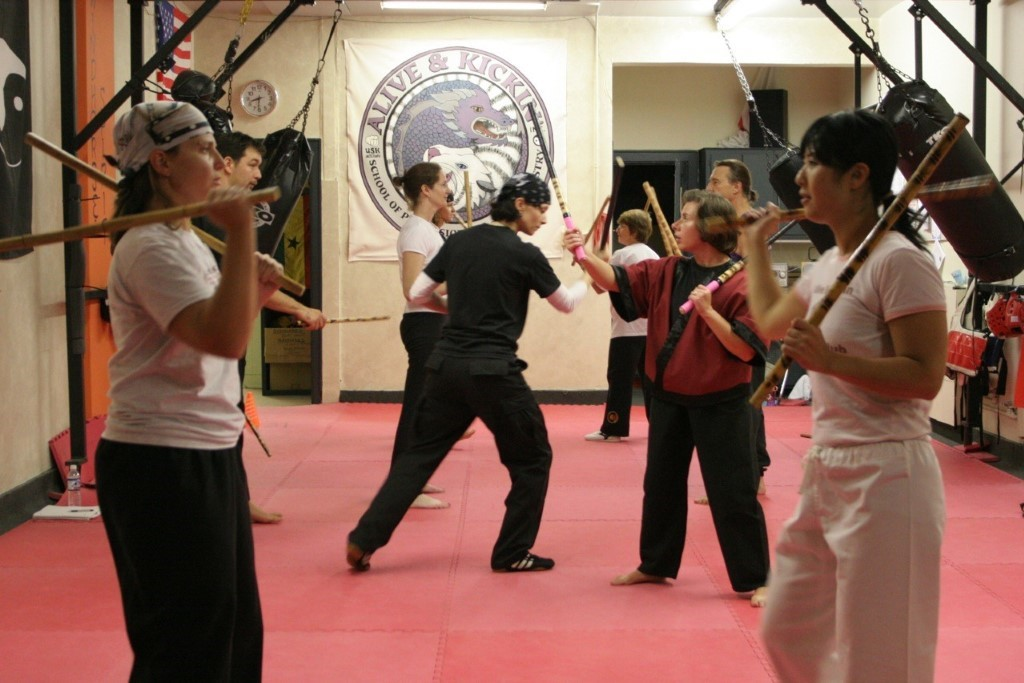baston_e: (753, 128, 958, 394), (37, 134, 289, 291), (710, 172, 983, 235), (2, 195, 262, 258), (687, 215, 795, 313), (526, 109, 585, 248), (642, 186, 682, 251), (569, 198, 605, 266), (602, 166, 626, 245), (242, 416, 270, 453), (302, 316, 383, 326), (462, 174, 474, 225), (454, 215, 465, 228)
baston_v: (261, 181, 288, 206), (982, 172, 1002, 201), (953, 104, 976, 128), (744, 391, 767, 412), (22, 126, 43, 148), (574, 246, 591, 267), (676, 299, 694, 317), (522, 95, 539, 111), (294, 283, 310, 299), (613, 155, 627, 169), (640, 179, 654, 190), (294, 317, 306, 327), (266, 451, 274, 459), (382, 313, 391, 320), (462, 168, 470, 173)
